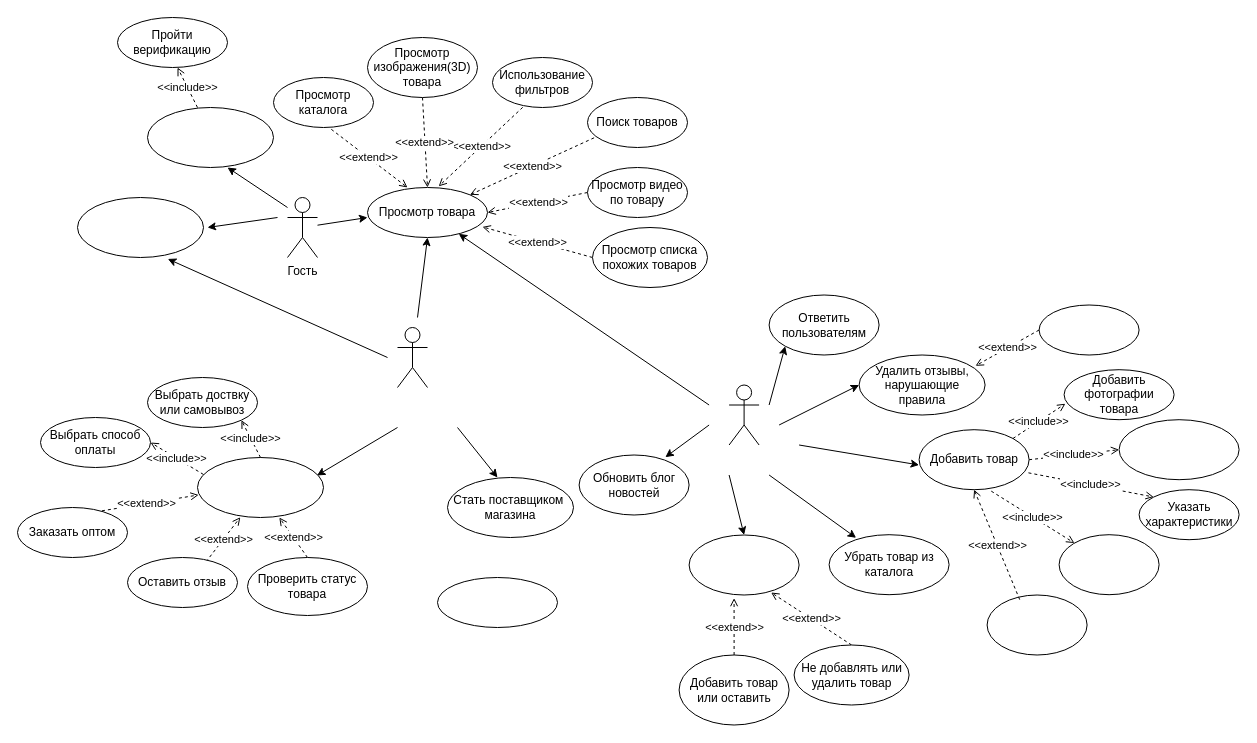
This 1257x743 diagram has some shape labels left out. The box of each missing label's shape, as (x1, y1, x2, y2) in pixels:
Администратор: (728, 384, 759, 445)
Добавить видео с товаром: (1118, 419, 1239, 480)
Заблокировать пользователя: (1038, 304, 1139, 355)
Заказать товар: (196, 456, 324, 518)
Заполнить анкету для поставщика: (436, 576, 558, 628)
Зарегистрированный пользователель: (396, 326, 428, 388)
Зарегистрироваться: (146, 106, 274, 168)
Обновление информации о товаре: (986, 594, 1087, 655)
Проверить товар продавца: (688, 534, 799, 595)
Связь с администратором: (76, 196, 204, 258)
Указать цену: (1058, 534, 1159, 595)
